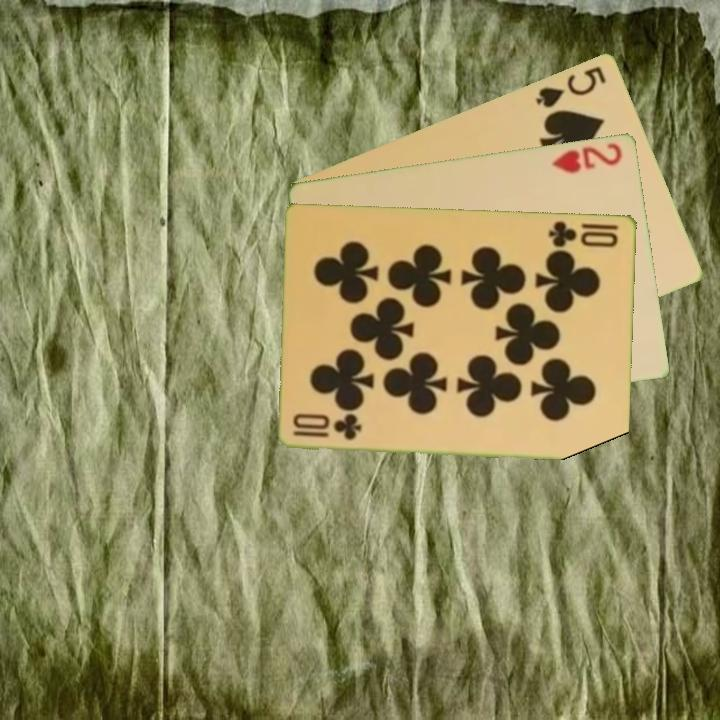10c: (545, 217, 621, 250), (290, 413, 365, 443)
2h: (549, 139, 625, 176)
5s: (532, 62, 609, 110)
